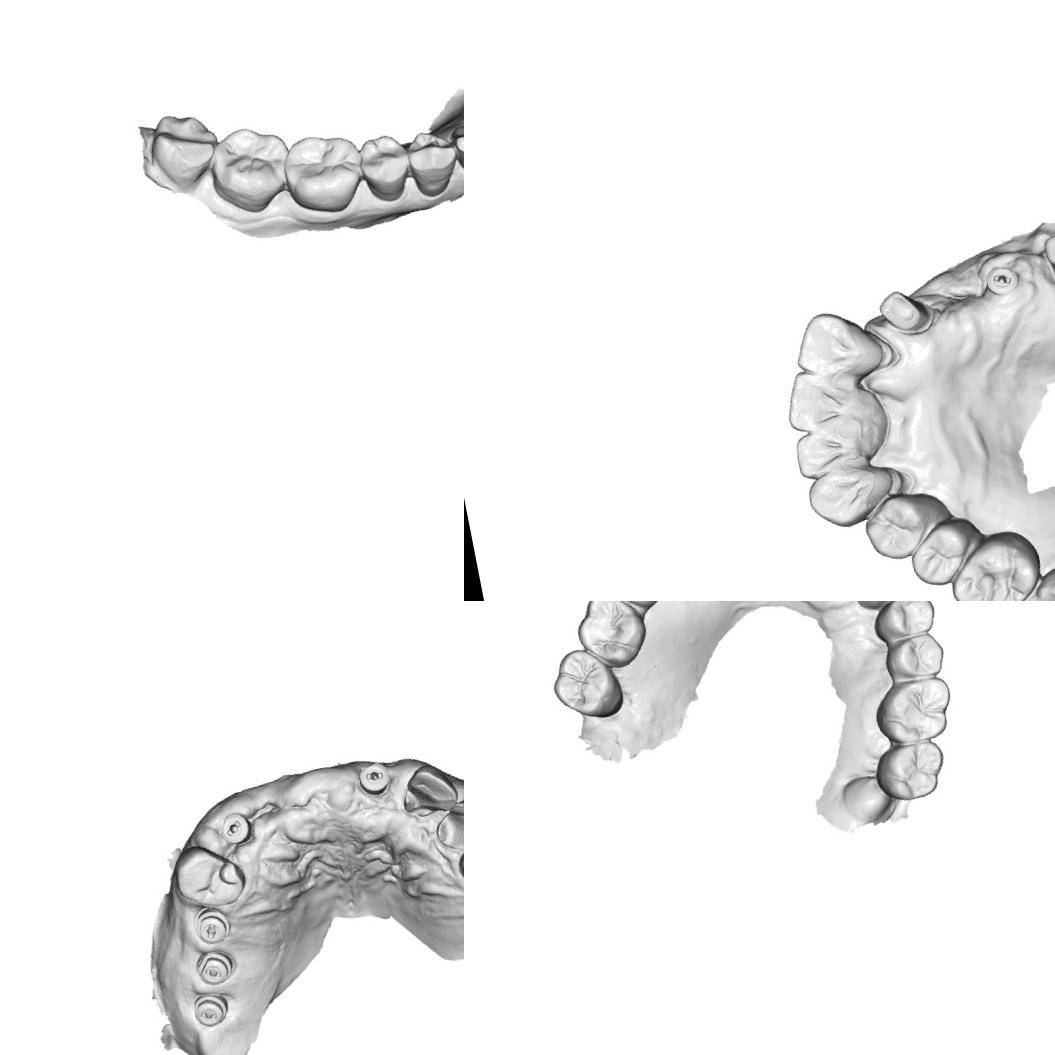abutment: (873, 280, 937, 342), (1037, 225, 1055, 289)
canine: (801, 458, 898, 534), (396, 758, 460, 818), (449, 116, 464, 178)
implant_minus: (190, 902, 233, 947), (193, 945, 236, 988), (981, 259, 1023, 302), (189, 988, 231, 1030), (216, 808, 254, 848), (355, 759, 392, 798)
incisor: (786, 300, 886, 387), (776, 361, 854, 439), (786, 420, 866, 484)
molar: (202, 118, 300, 216), (278, 124, 370, 221), (938, 525, 1049, 601), (142, 104, 225, 192), (868, 672, 958, 748), (546, 642, 627, 726), (568, 601, 652, 674), (870, 736, 949, 805), (999, 553, 1055, 601)
premolar: (168, 836, 250, 913), (857, 488, 939, 564), (901, 514, 980, 591), (402, 124, 464, 198), (354, 130, 412, 206), (880, 630, 948, 684), (867, 601, 938, 642), (430, 792, 464, 857)
